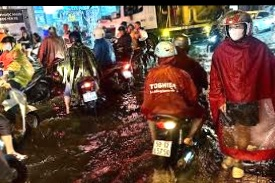Bien-so: (145, 139, 166, 157), (84, 83, 99, 96), (124, 66, 135, 75)
